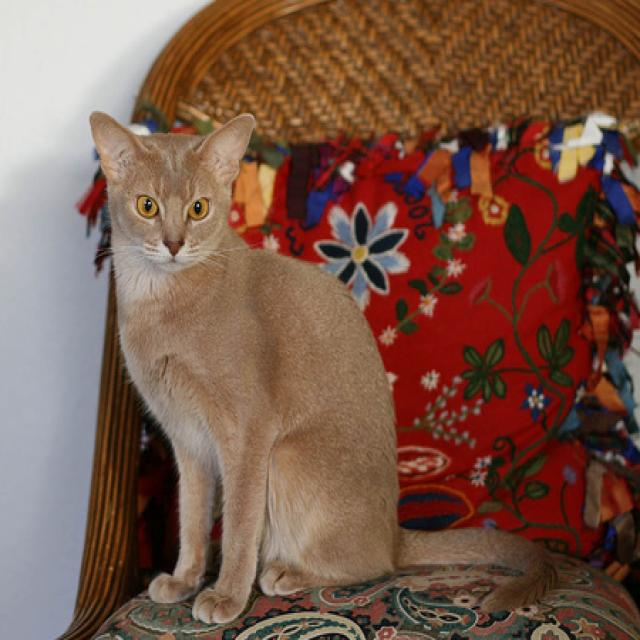Abyssinian: (88, 107, 562, 630)
